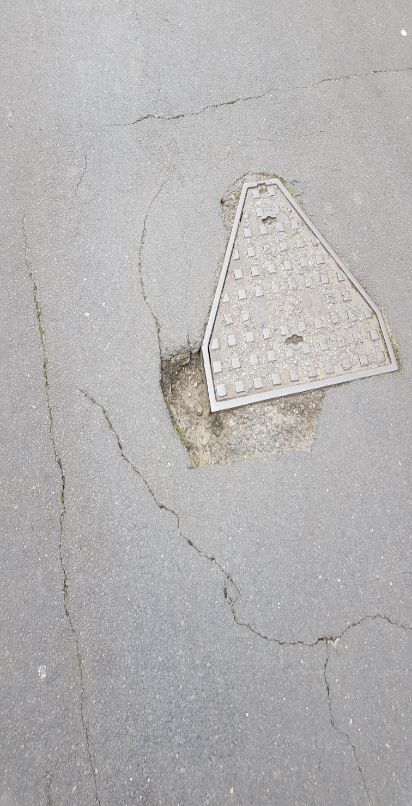pothole: (149, 336, 335, 466)
